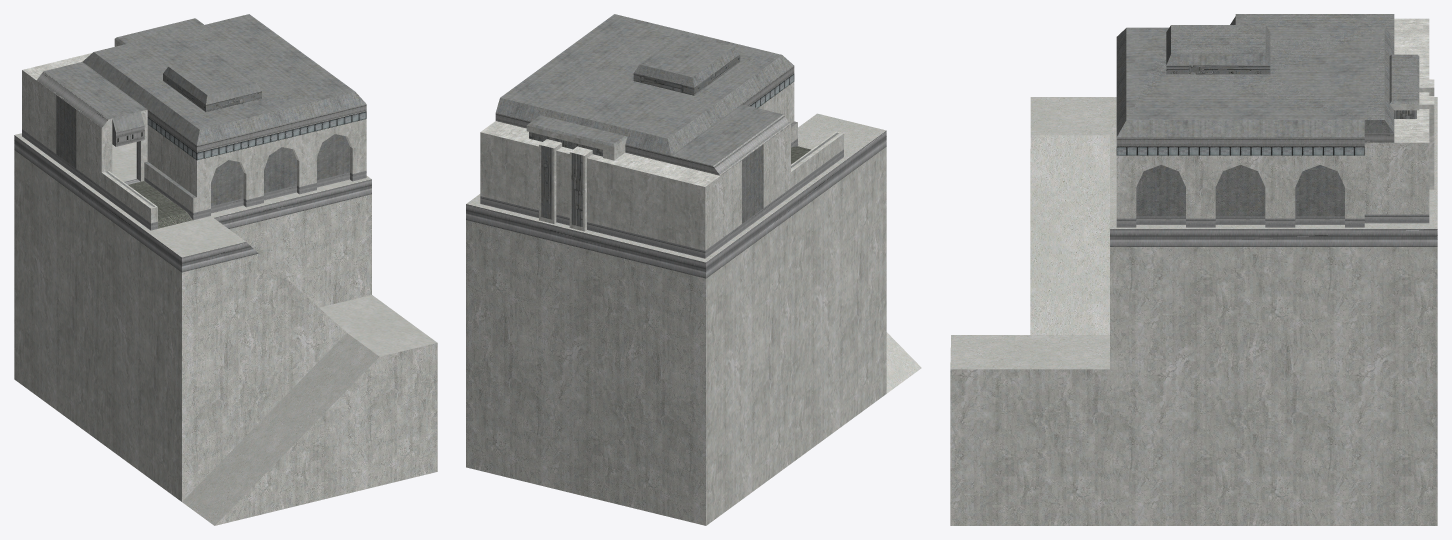
The model's file is ply_corl_house_sm_s01_fp2_r0_exterior_mesh_l1.fbx.
3 renders of one model, left to right at view 1: azimuth 30°, elevation 25°; view 2: azimuth 150°, elevation 25°; view 3: azimuth 270°, elevation 25°, orthographic. The views are drawn at different scales.
Parts seen in each view (by area): view 1: mesh_node; view 2: mesh_node; view 3: mesh_node.
Part boxes in pixels (x1,y1,x2,y2): mesh_node: [14, 14, 437, 525]; mesh_node: [466, 14, 921, 525]; mesh_node: [950, 14, 1437, 525].
Size of the model in its own units: 15.74 by 23.24 by 24.55.
